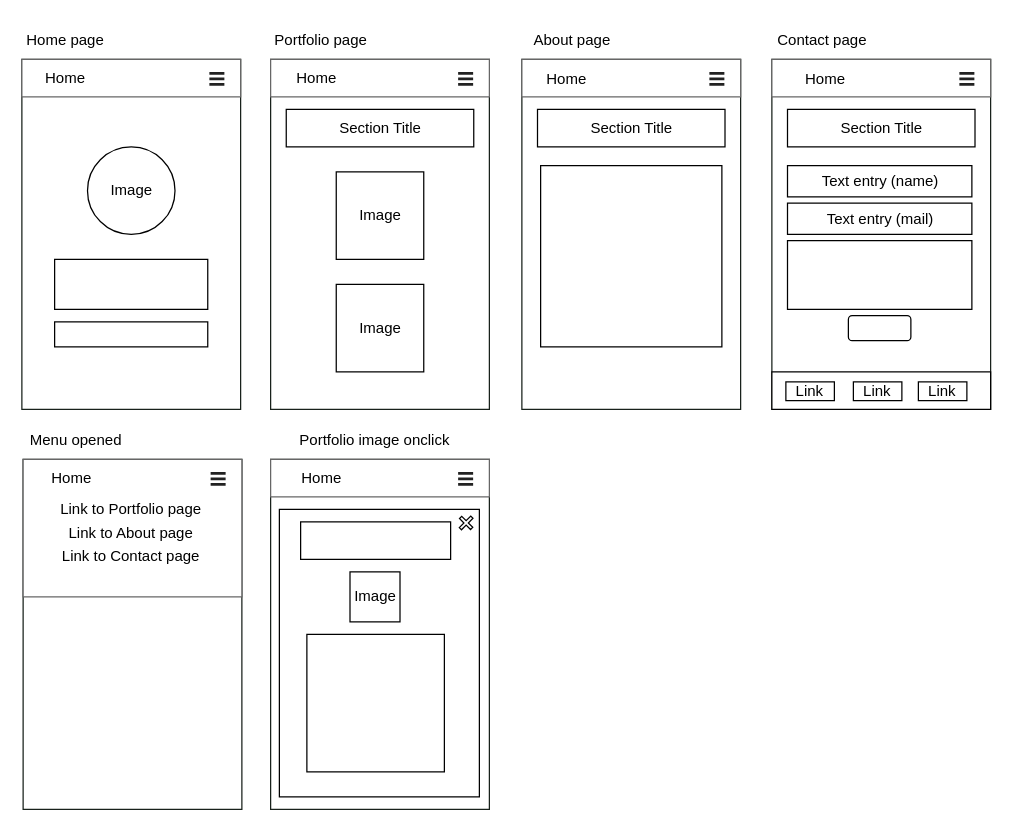
The diagram is 1013 pixels wide and 831 high, and some of its shapes have lost their labels. Here are the shapes that lost their labels. From the top down, the centre of each, then its label:
the point at 630,255: Text
the point at 879,274: Text entry (message)
the point at 130,283: Title
the point at 130,334: Subtitle
the point at 879,327: Button
the point at 375,540: Project title
the point at 375,702: Short description
